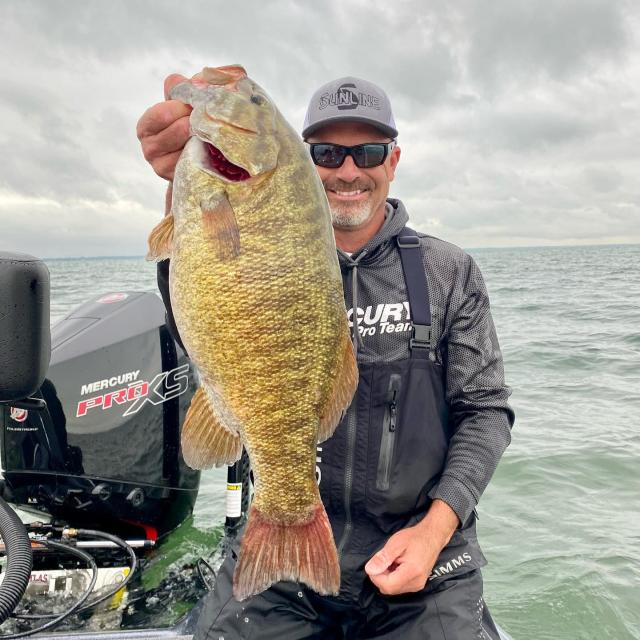Bass - Smallmouth: (149, 65, 358, 599)
